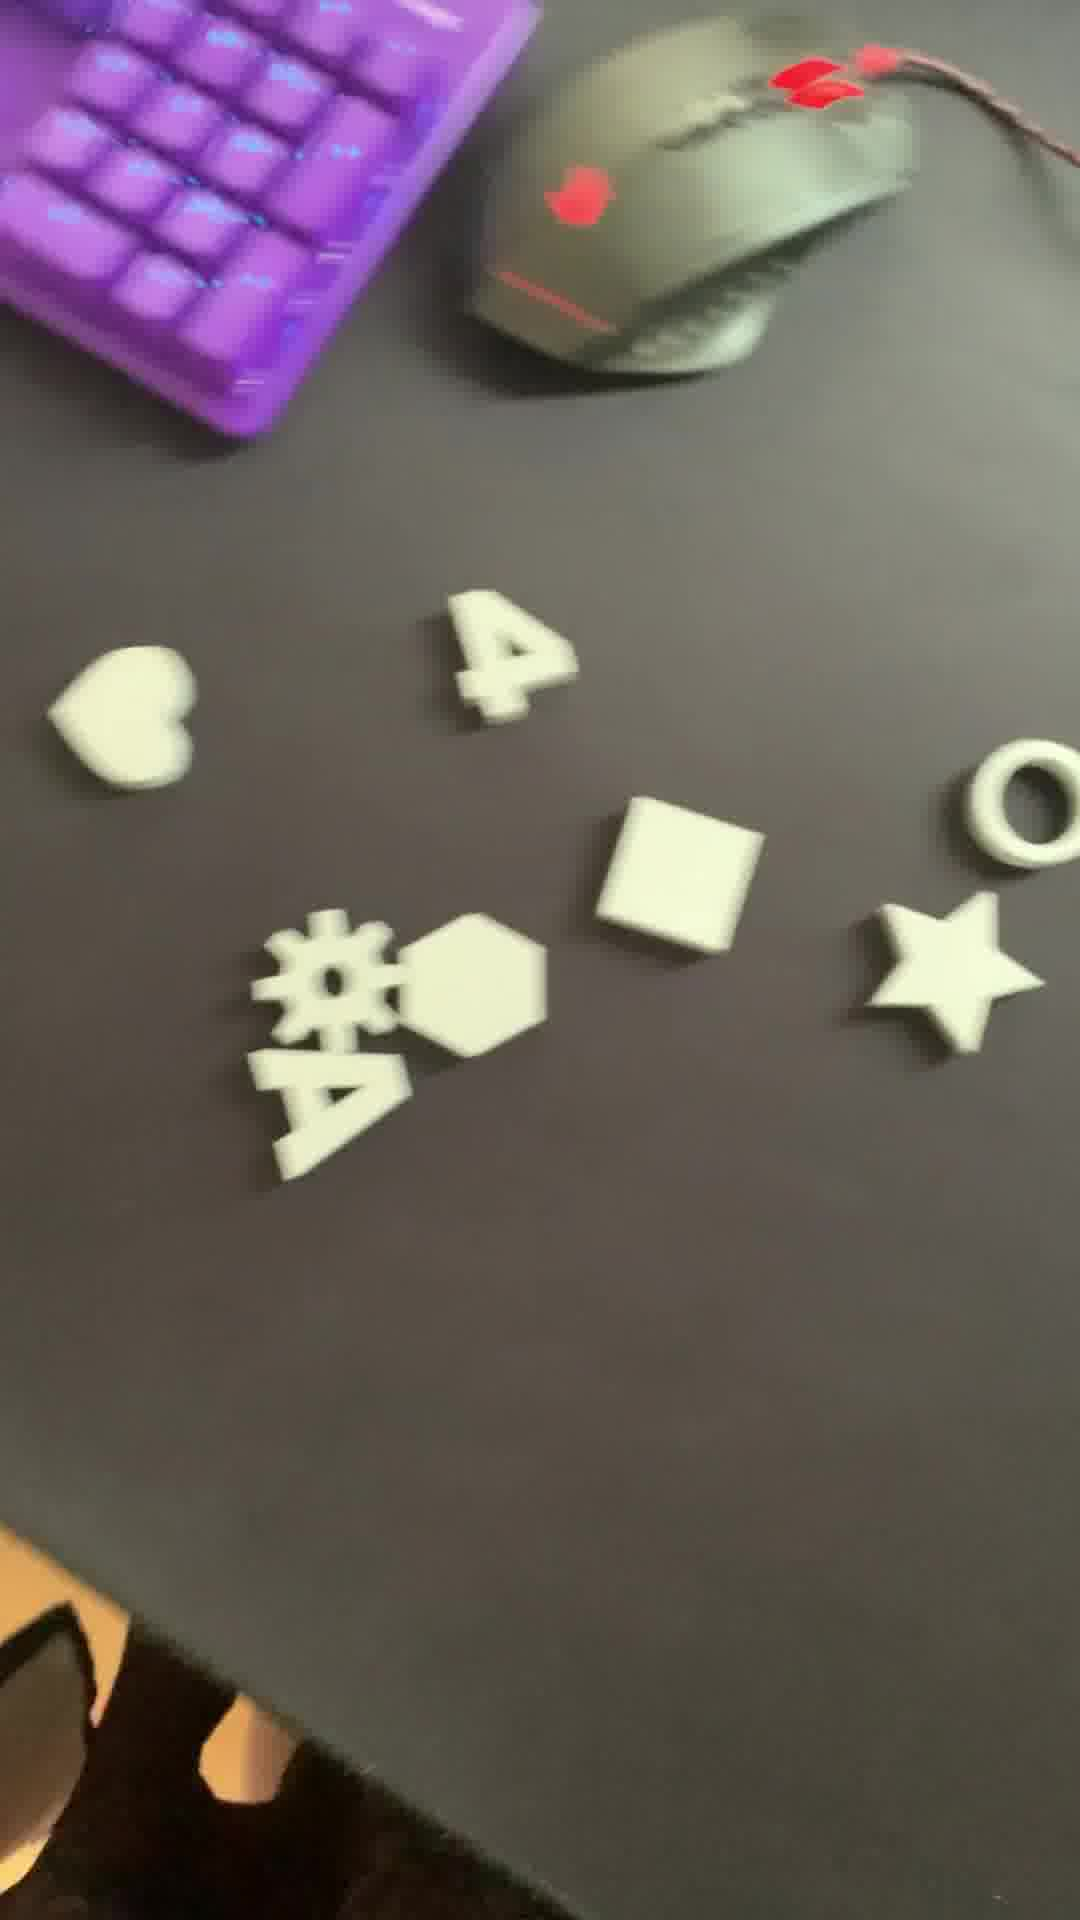Gray A-letter: (229, 1044, 427, 1193)
Gray four: (440, 575, 582, 724)
Gray gear: (255, 891, 423, 1063)
Gray heart: (69, 640, 225, 796)
Gray hexagon: (392, 906, 566, 1067)
Gray ring: (963, 742, 1080, 873)
Gray square: (580, 785, 775, 973)
Gray star: (857, 884, 1033, 1069)
